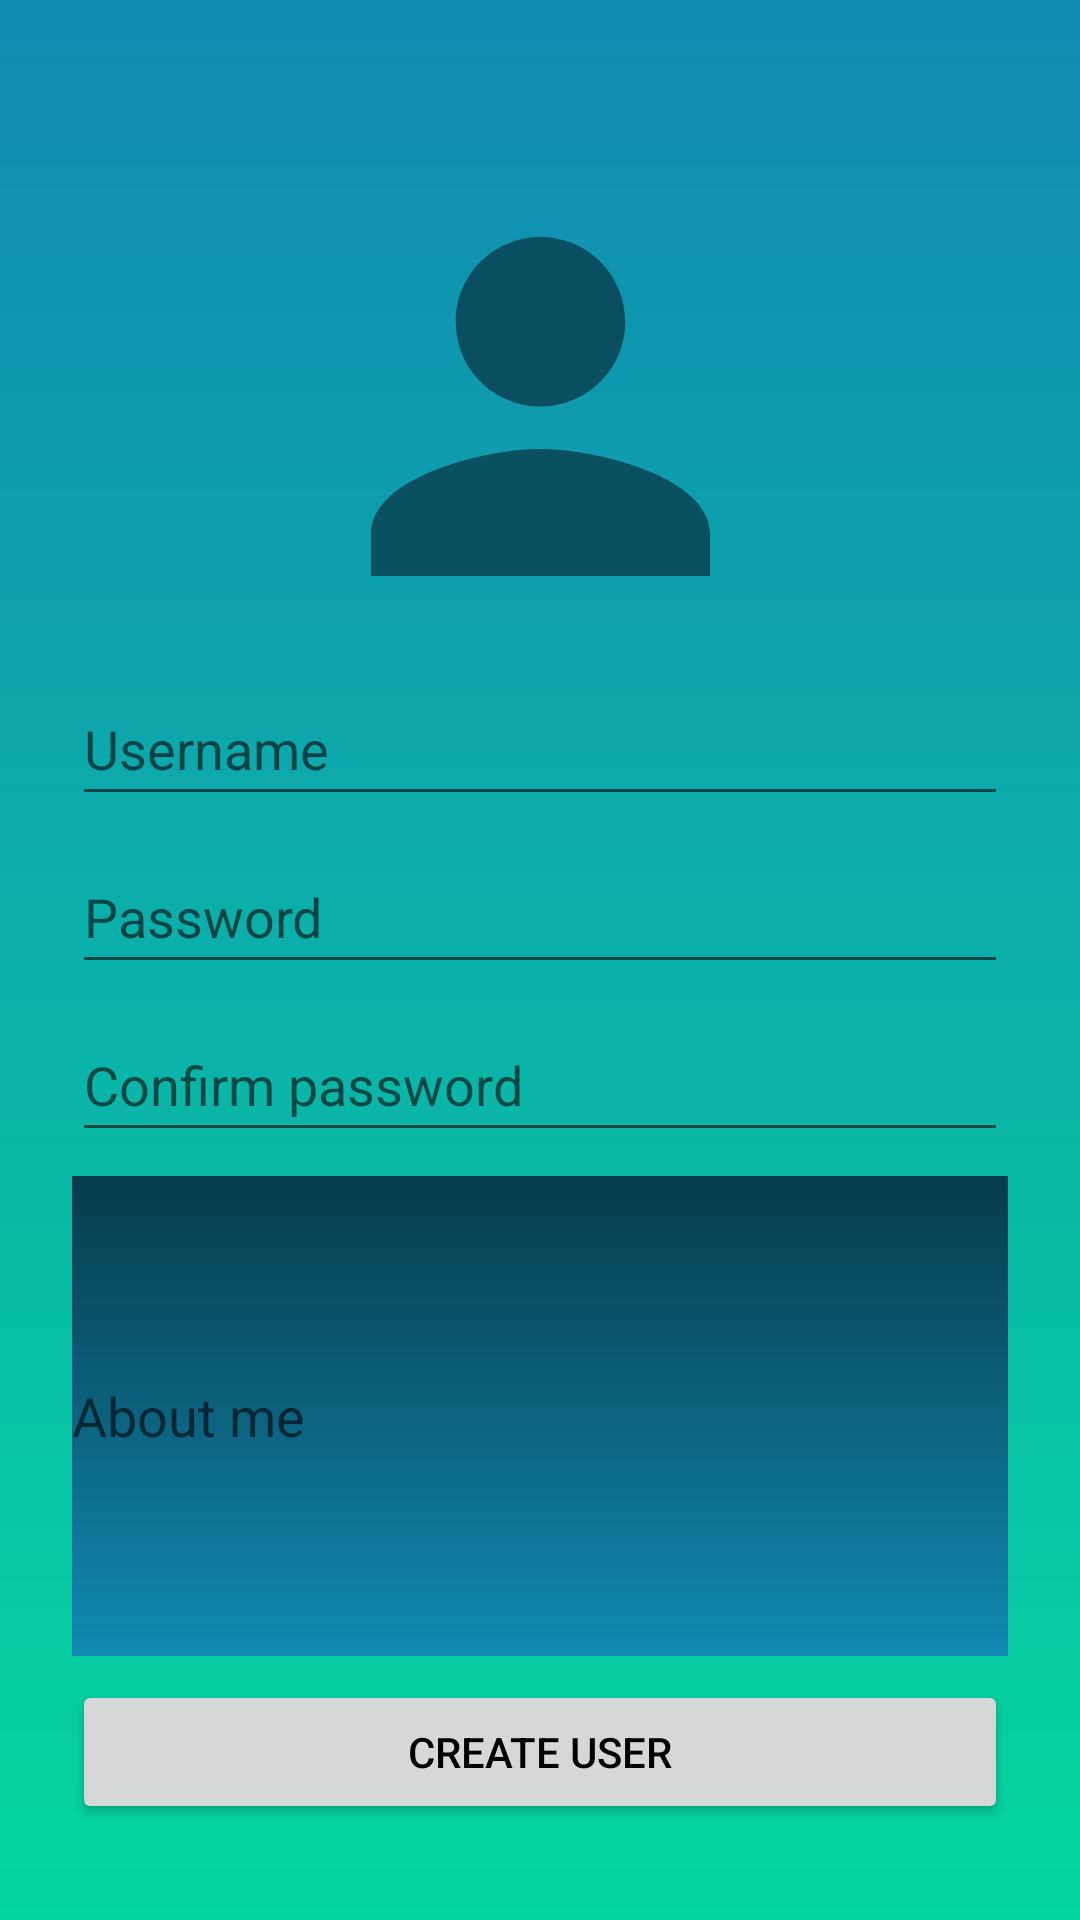

Icons on this 1080w x 1920h Android screen, each with the point to tap as [x,y]:
user profile: [540,406]
